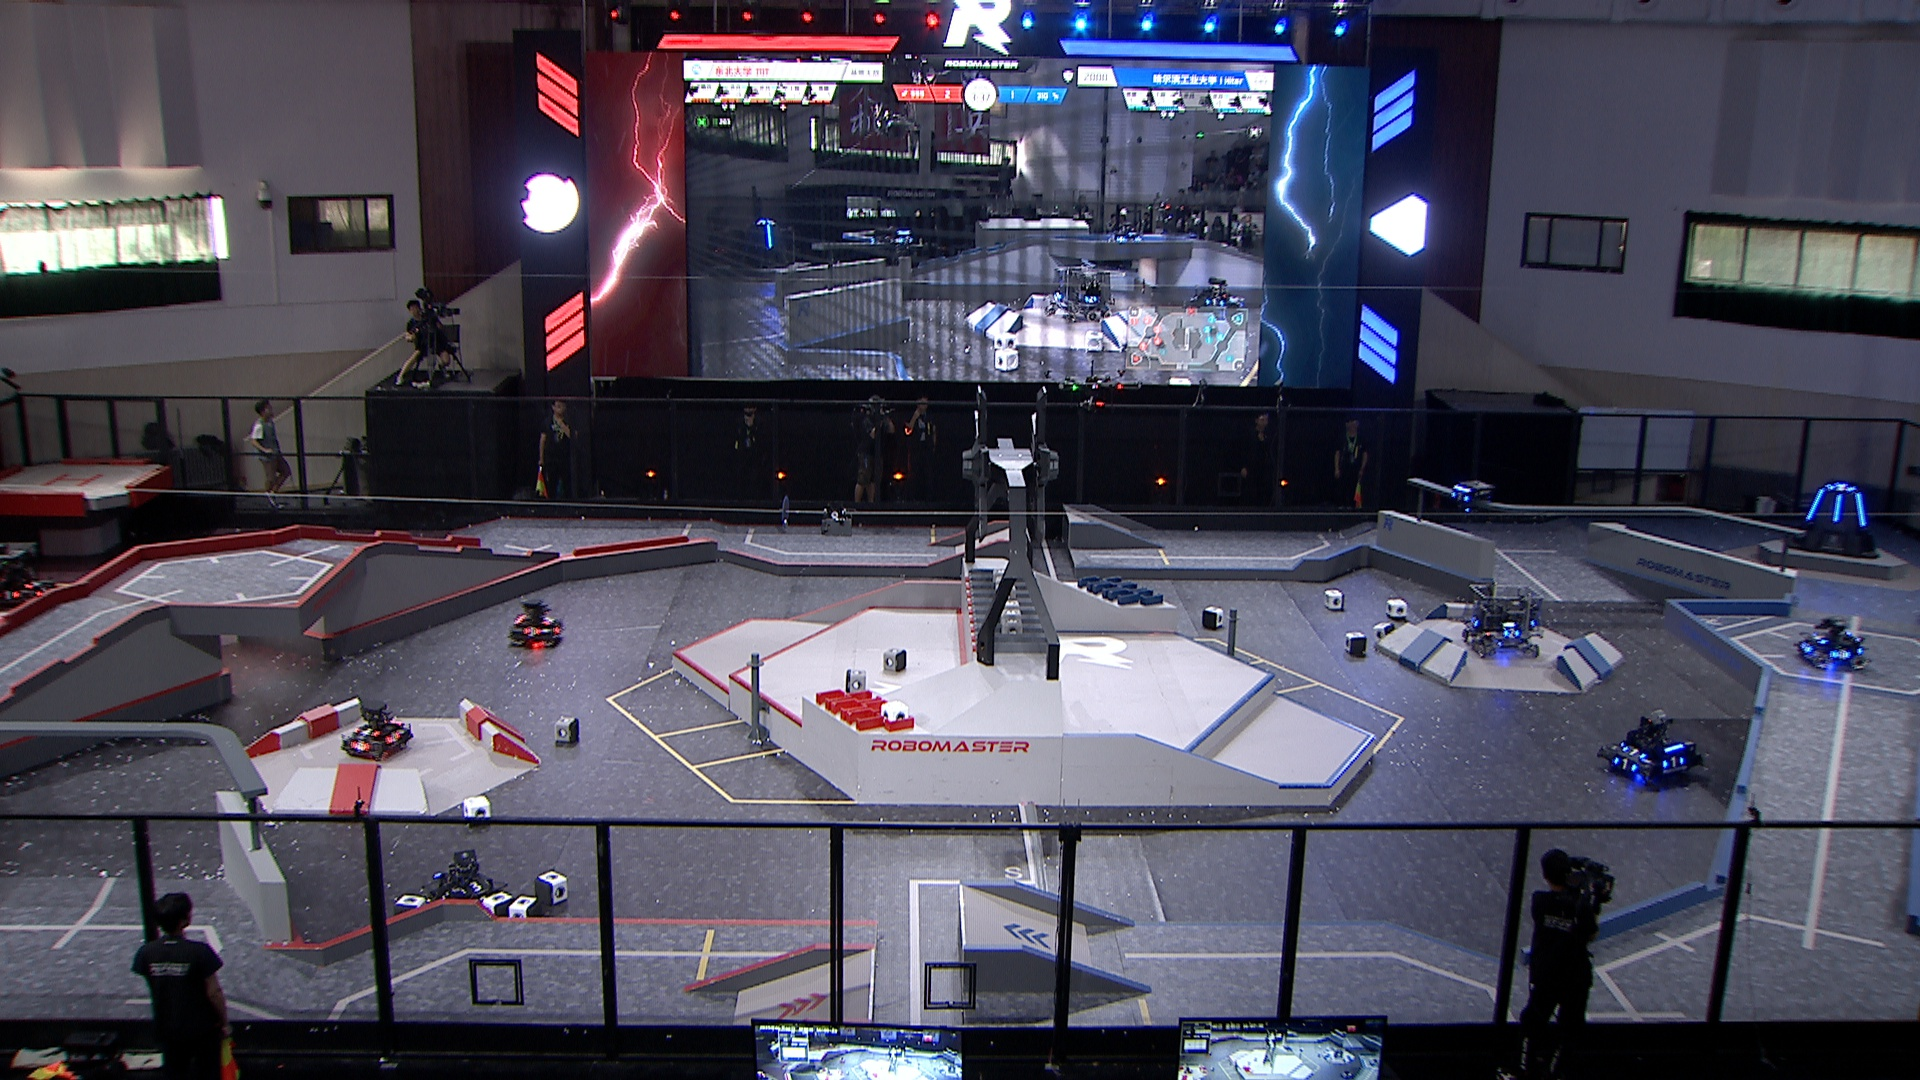armor: (1807, 484, 1826, 522), (1854, 491, 1869, 527), (1621, 742, 1646, 760), (460, 880, 487, 895), (1611, 756, 1636, 771), (1832, 495, 1845, 524), (1662, 756, 1687, 769), (385, 728, 404, 745), (522, 624, 543, 637), (1832, 481, 1851, 495), (357, 725, 378, 737), (1468, 616, 1484, 632), (36, 585, 53, 600), (1832, 647, 1850, 661), (1451, 489, 1468, 502), (351, 738, 368, 752), (1809, 629, 1826, 642), (1503, 628, 1520, 640), (22, 580, 44, 589), (1797, 640, 1813, 651), (543, 613, 556, 626), (1, 591, 17, 600)
base: (1785, 472, 1884, 560)
car: (1596, 709, 1709, 787), (1461, 580, 1547, 661), (427, 847, 506, 918), (1792, 615, 1871, 671), (338, 702, 414, 757), (509, 595, 568, 651)
ignore: (1044, 262, 1117, 323), (740, 214, 795, 266), (1185, 276, 1242, 315), (1101, 218, 1143, 248)
watcher: (1447, 472, 1498, 531)
